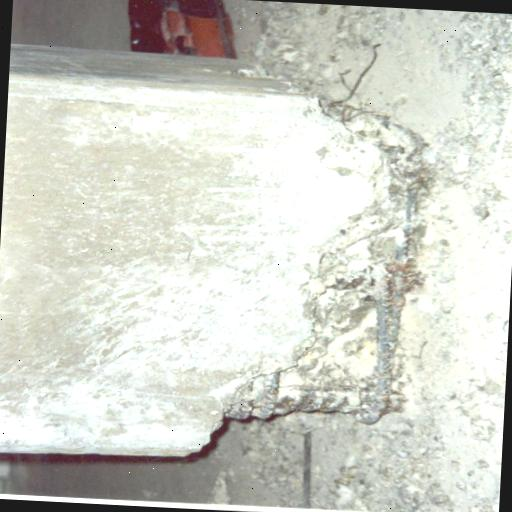spalling: (242, 104, 443, 423)
